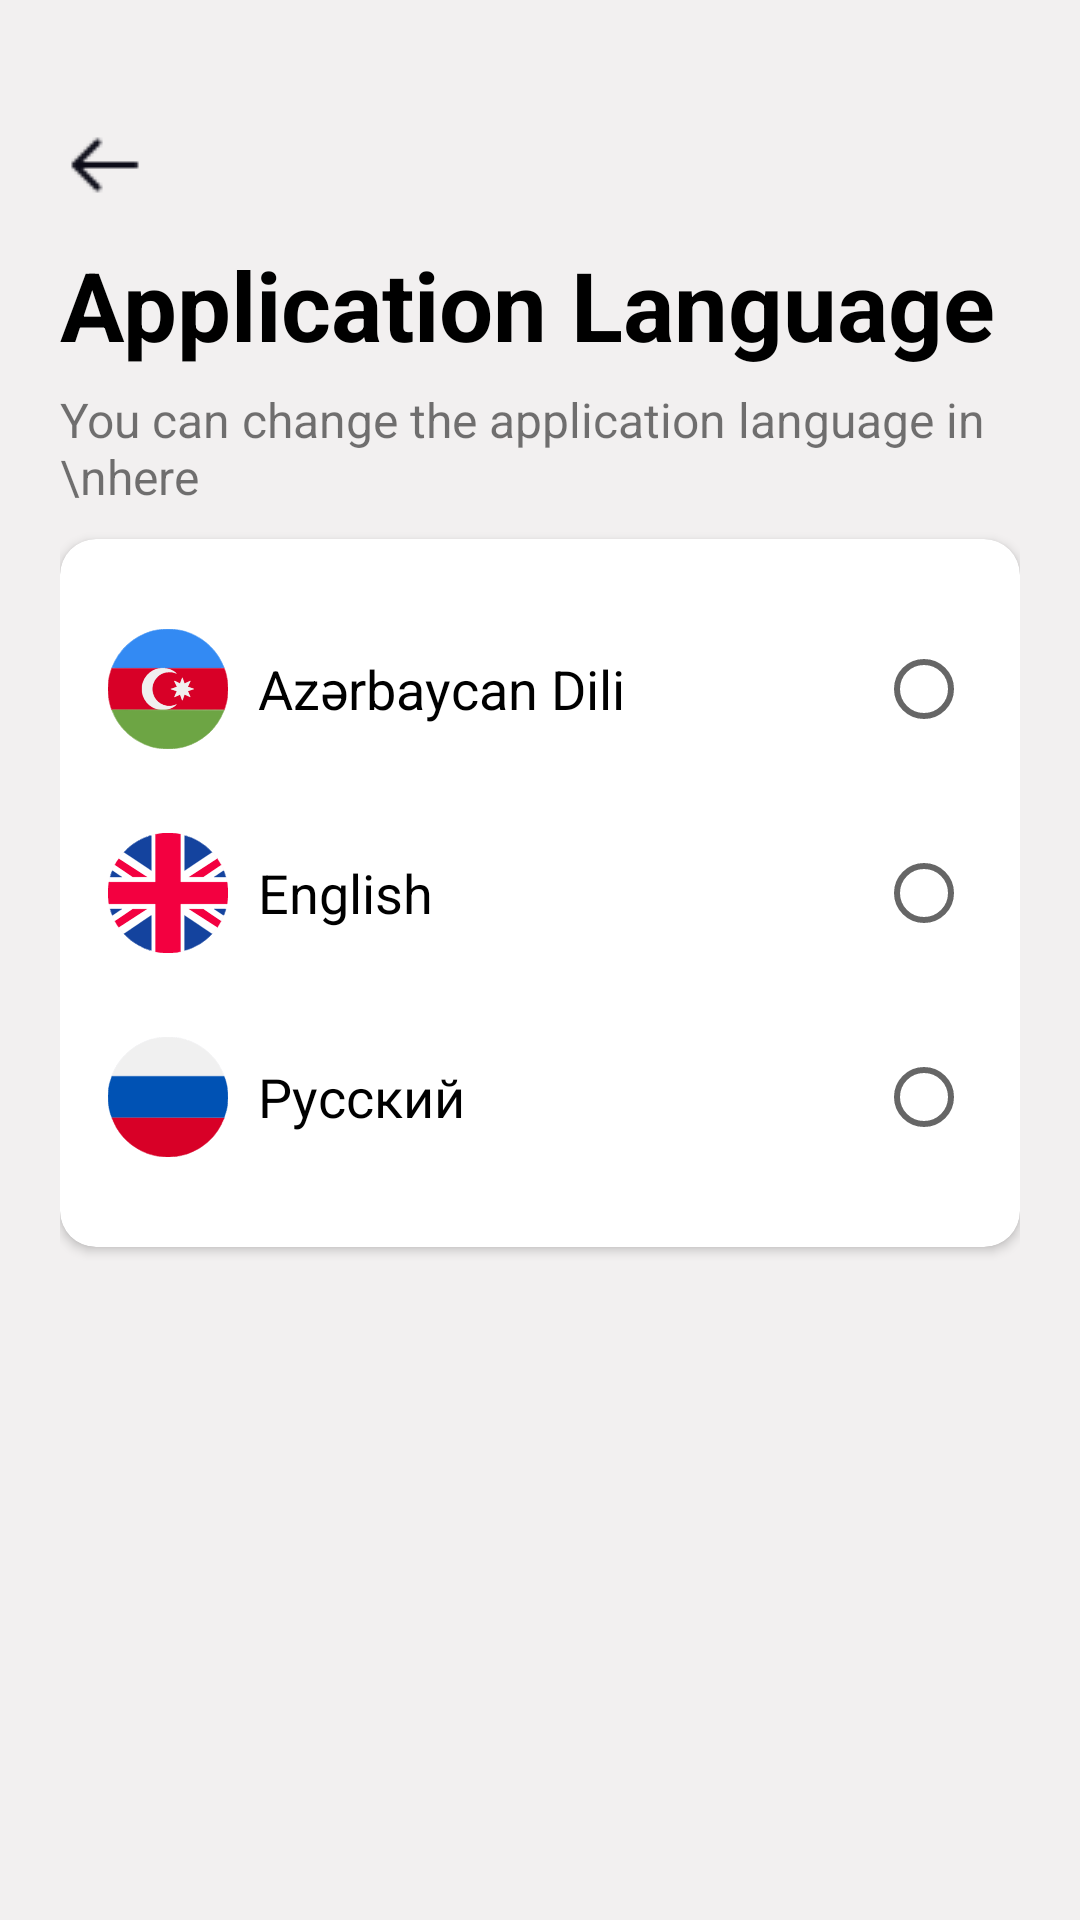

Named icons in this screenshot (1080×1920) and their bounding boxes, [x1,y1,x2,y2]:
aze flag: [108,629,228,749]
left: [71,137,139,193]
